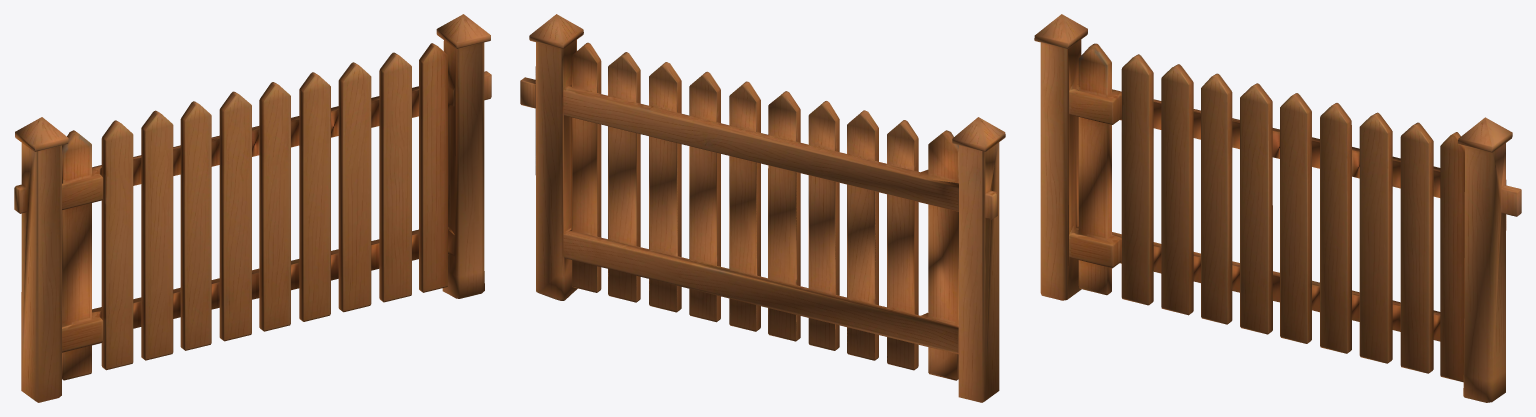
The model's file is Outdoor__a_wooden_fence_0a074075_v2.cluster.glb.
3 views of the same model, side by side, from view 1: azimuth 30°, elevation 25°; view 2: azimuth 150°, elevation 25°; view 3: azimuth 330°, elevation 25° (orthographic).
Visible parts, largest first — view 1: material; view 2: material; view 3: material.
Boxes of the visible parts, x1,y1,x2,y2 form: material: (14,14,491,402); material: (520,14,1005,402); material: (1034,14,1521,402).
Size of the model in its own units: 1.9 by 1.07 by 0.1425.
Materials: 1 (1 with a texture image).
